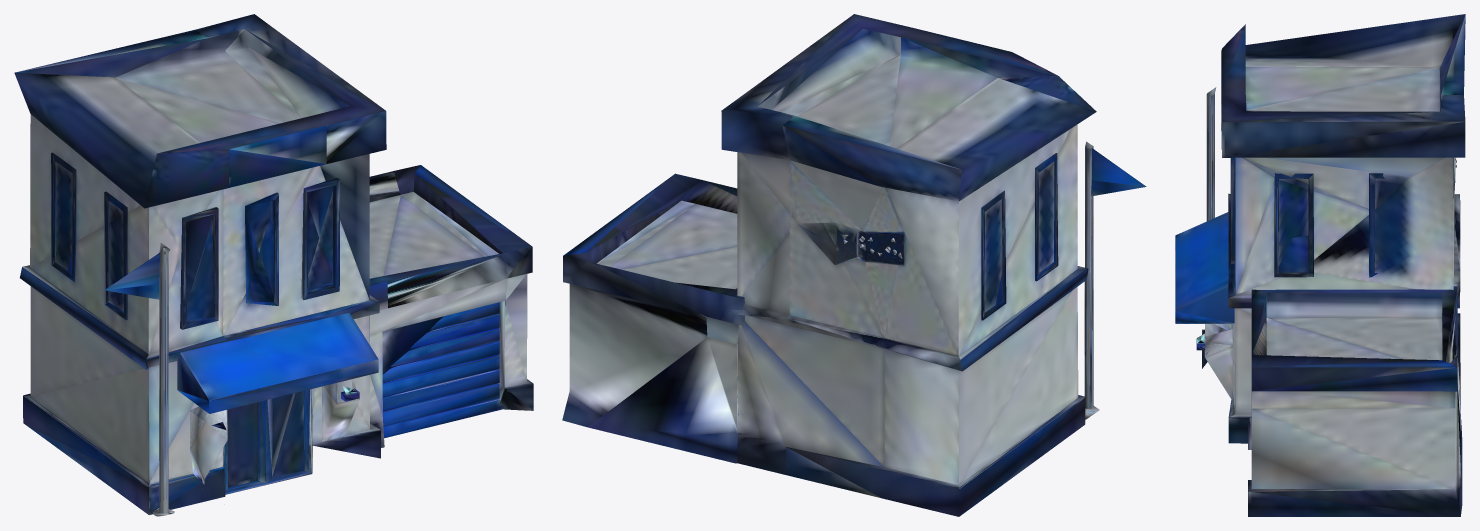
File: 29-police-station.glb
3 renders of one model, left to right at view 1: azimuth 30°, elevation 25°; view 2: azimuth 150°, elevation 25°; view 3: azimuth 270°, elevation 25°, orthographic. The views are drawn at different scales.
Parts seen in each view (by area): view 1: geometry_0; view 2: geometry_0; view 3: geometry_0.
Boxes of the visible parts, x1,y1,x2,y2 form: geometry_0: (14,14,533,516); geometry_0: (562,14,1146,516); geometry_0: (1175,14,1465,516).
Size of the model in its own units: 0.9507 by 0.71 by 0.5772.
Materials: 1 (1 with a texture image).
